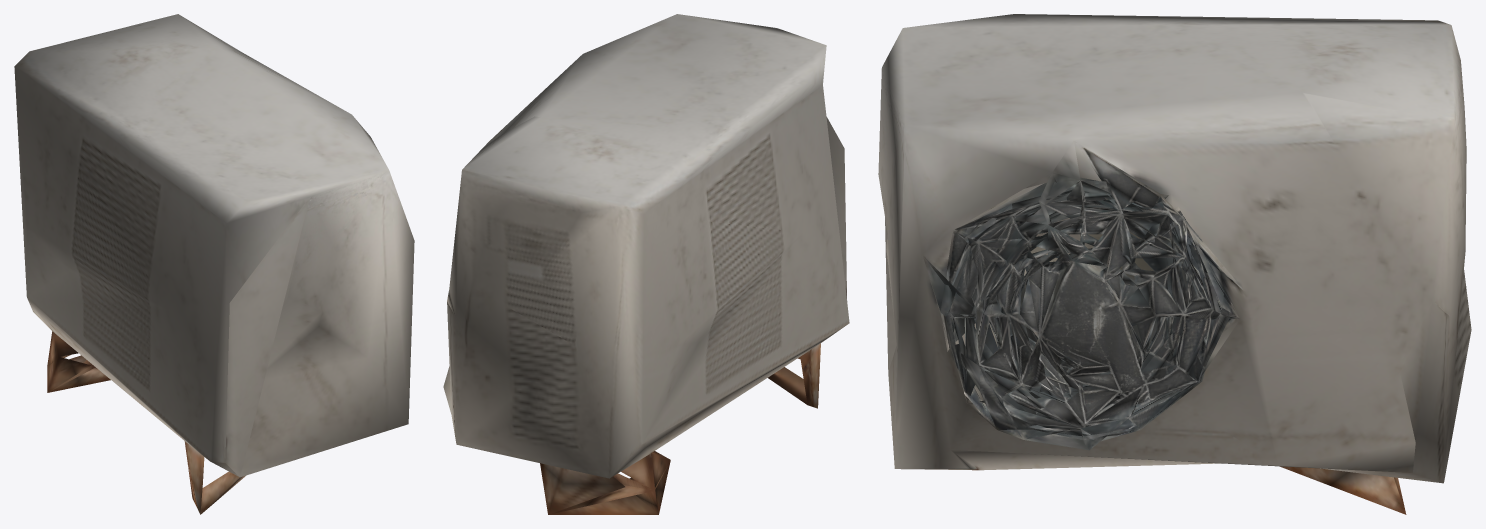
Rendered from aire.glb.
3 renders of one model, left to right at view 1: azimuth 30°, elevation 25°; view 2: azimuth 150°, elevation 25°; view 3: azimuth 270°, elevation 25°, orthographic. The views are drawn at different scales.
Parts seen in each view (by area): view 1: tripo_node_01607fb9-7bf7-4fa4-93db-86ec088eceff; view 2: tripo_node_01607fb9-7bf7-4fa4-93db-86ec088eceff; view 3: tripo_node_01607fb9-7bf7-4fa4-93db-86ec088eceff.
Boxes of the visible parts, x1=… form: tripo_node_01607fb9-7bf7-4fa4-93db-86ec088eceff: x1=14, y1=14, x2=414, y2=514; tripo_node_01607fb9-7bf7-4fa4-93db-86ec088eceff: x1=443, y1=14, x2=849, y2=514; tripo_node_01607fb9-7bf7-4fa4-93db-86ec088eceff: x1=878, y1=14, x2=1471, y2=514.
Size of the model in its own units: 0.5737 by 0.843 by 1.
1 material, 1 textured.
